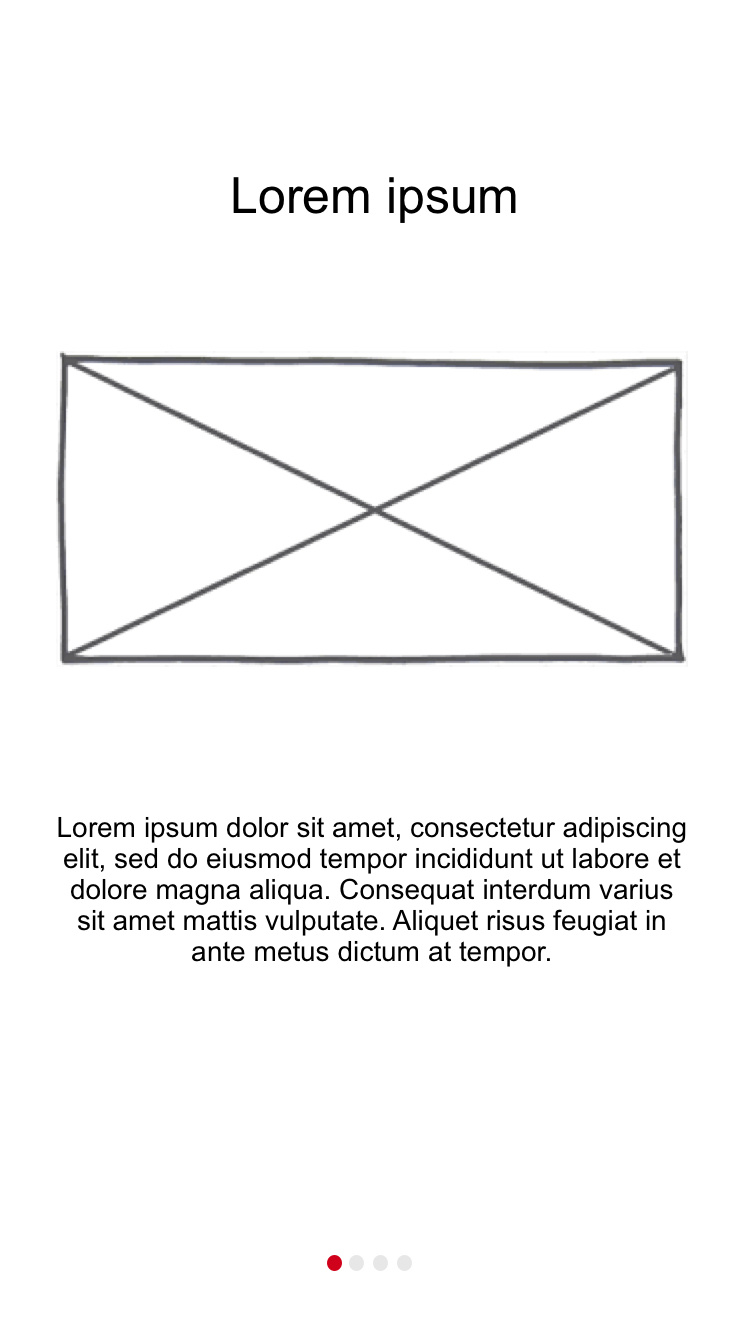Image: (58, 352, 687, 666)
PageIndicator: (326, 1254, 414, 1273)
Text: (58, 815, 687, 968), (233, 177, 517, 225)
